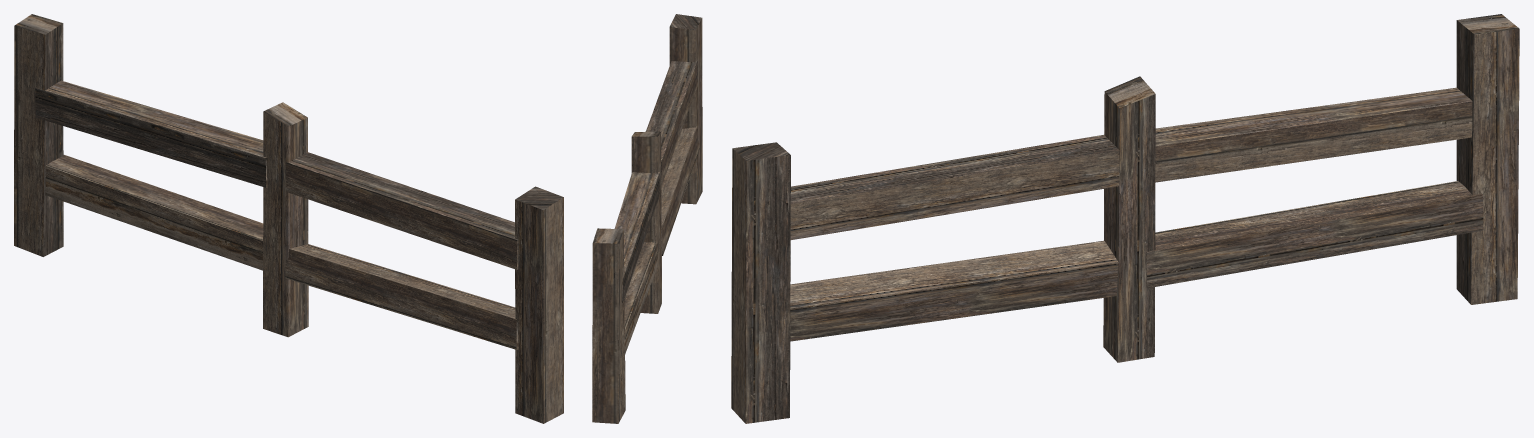
File: fence1.obj
The picture shows the model from 3 angles, left to right: view 1: azimuth 30°, elevation 25°; view 2: azimuth 150°, elevation 25°; view 3: azimuth 270°, elevation 25°; orthographic projection. The views are drawn at different scales.
Parts seen in each view (by area): view 1: fence; view 2: fence; view 3: fence.
Boxes of the visible parts, box(x1,y1,x2,y2) form: fence: box(14, 14, 563, 423); fence: box(592, 14, 702, 423); fence: box(731, 14, 1519, 423).
Size of the model in its own units: 1.7 by 1.51 by 3.97.
Materials: 1 (1 with a texture image).
